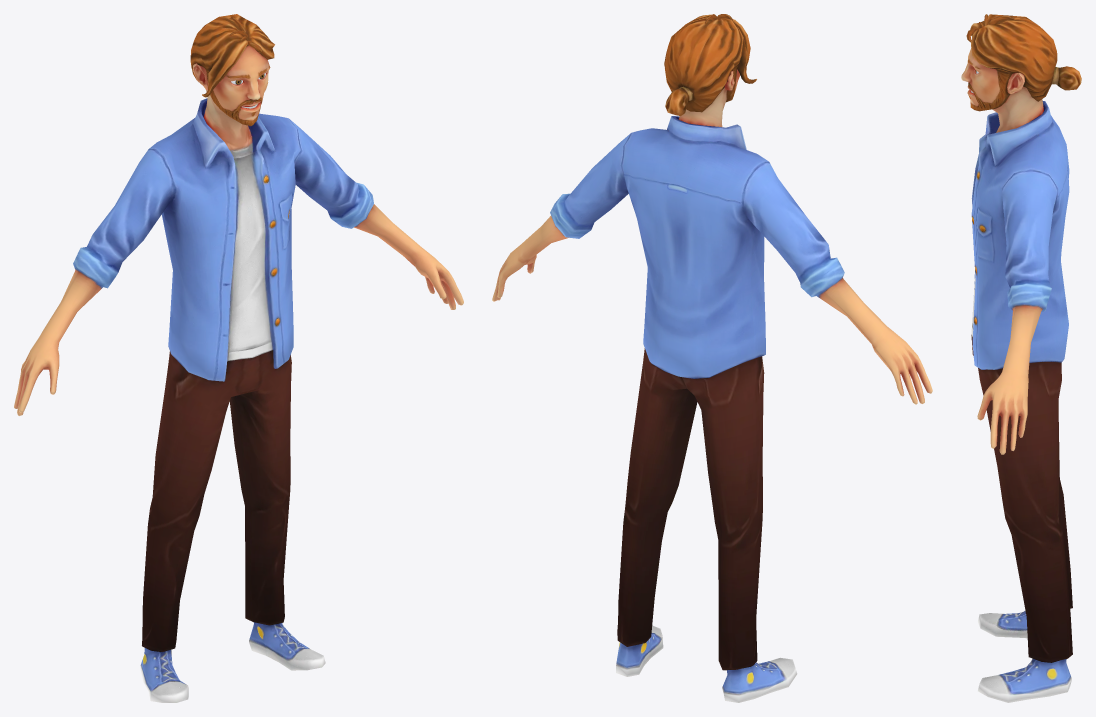
The model's file is blue-shirt-impostor.glb.
3 renders of one model, left to right at view 1: azimuth 30°, elevation 25°; view 2: azimuth 150°, elevation 25°; view 3: azimuth 270°, elevation 25°, orthographic. The views are drawn at different scales.
Parts seen in each view (by area): view 1: blue shirt impostor; view 2: blue shirt impostor; view 3: blue shirt impostor.
Boxes of the visible parts, x1,y1,x2,y2 form: blue shirt impostor: [14, 14, 463, 702]; blue shirt impostor: [492, 14, 932, 702]; blue shirt impostor: [961, 14, 1081, 702].
Size of the model in its own units: 127 by 181 by 30.49.
Materials: 1 (1 with a texture image).
